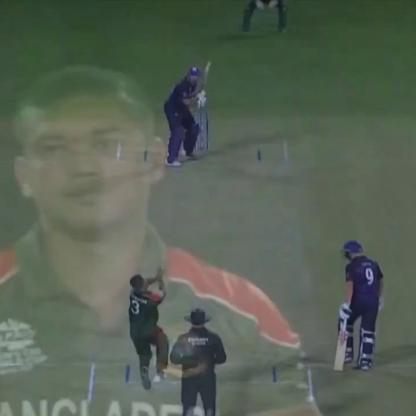pitch: (75, 134, 318, 406)
